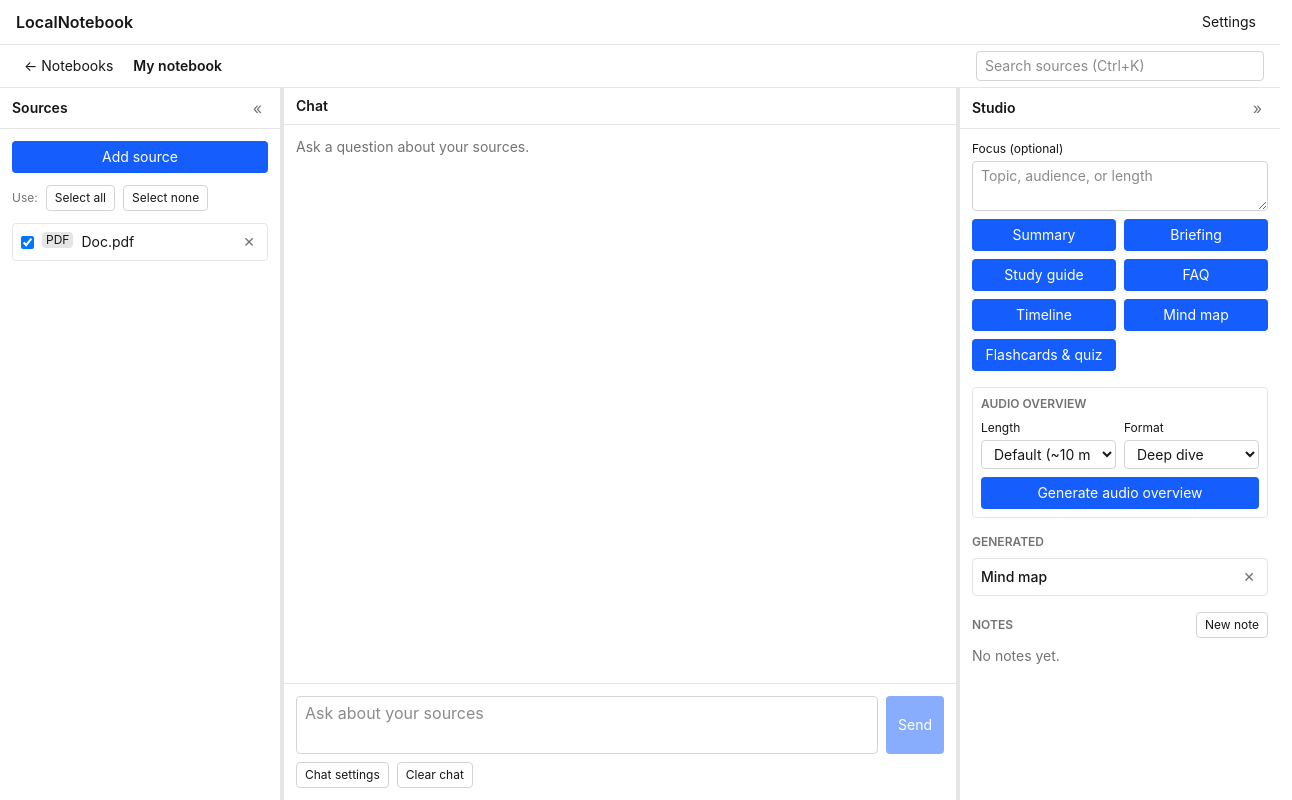
sends the mind map click to the chat
The image size is (1292, 800).
Click the button "Mind map" below "Generated" at (1106, 577), box [981, 567, 1231, 587]
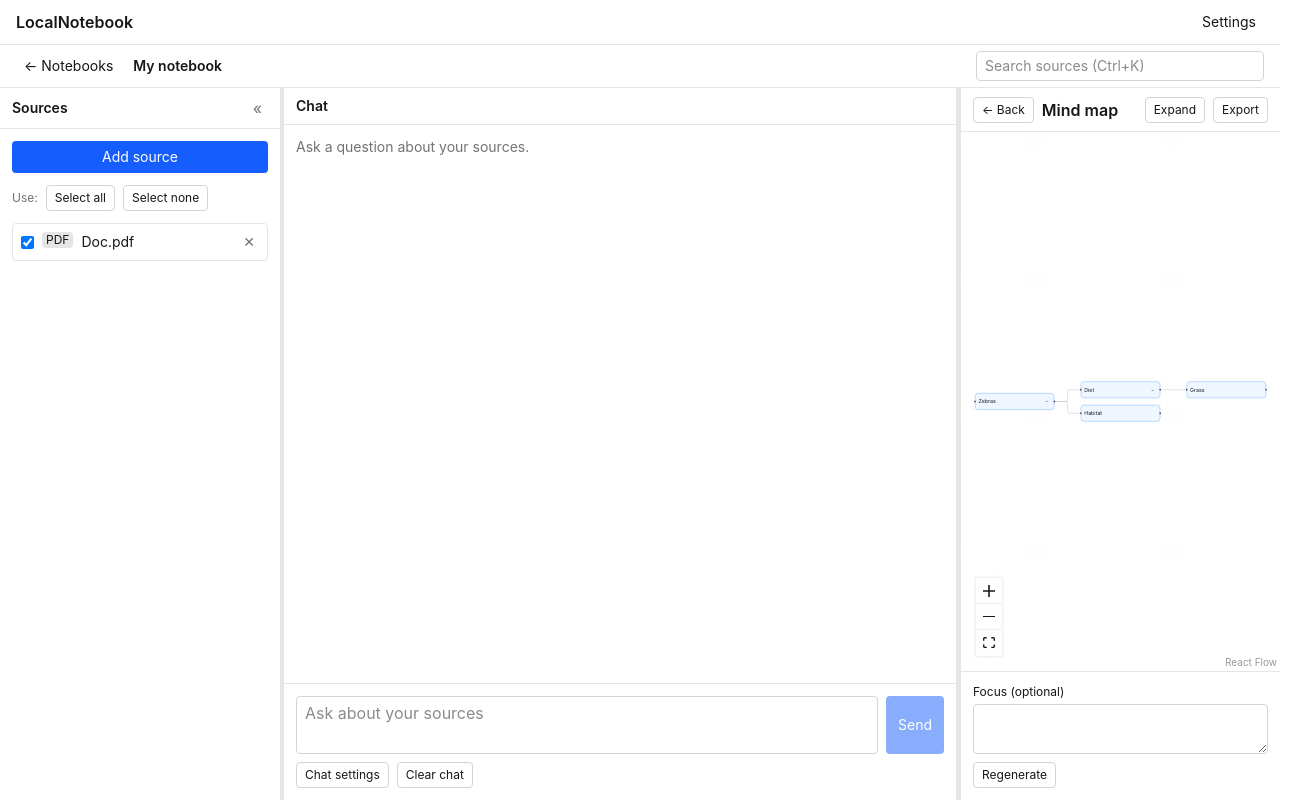
Click the button with aria-label "Ask about Grass" at (1226, 390), box [1190, 386, 1263, 394]
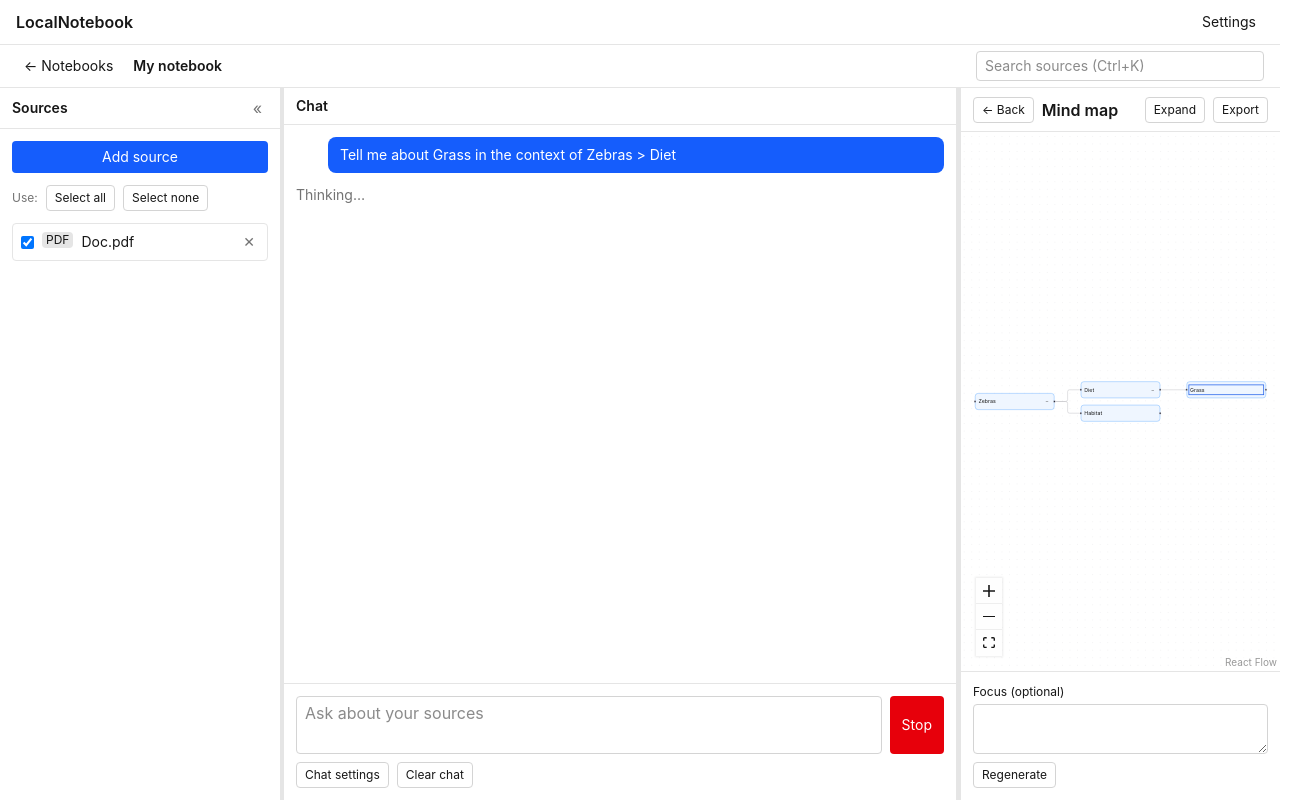
Expected: the text "Tell me about Grass in the context of Zebras > Diet" is shown, [328, 137, 944, 173]
